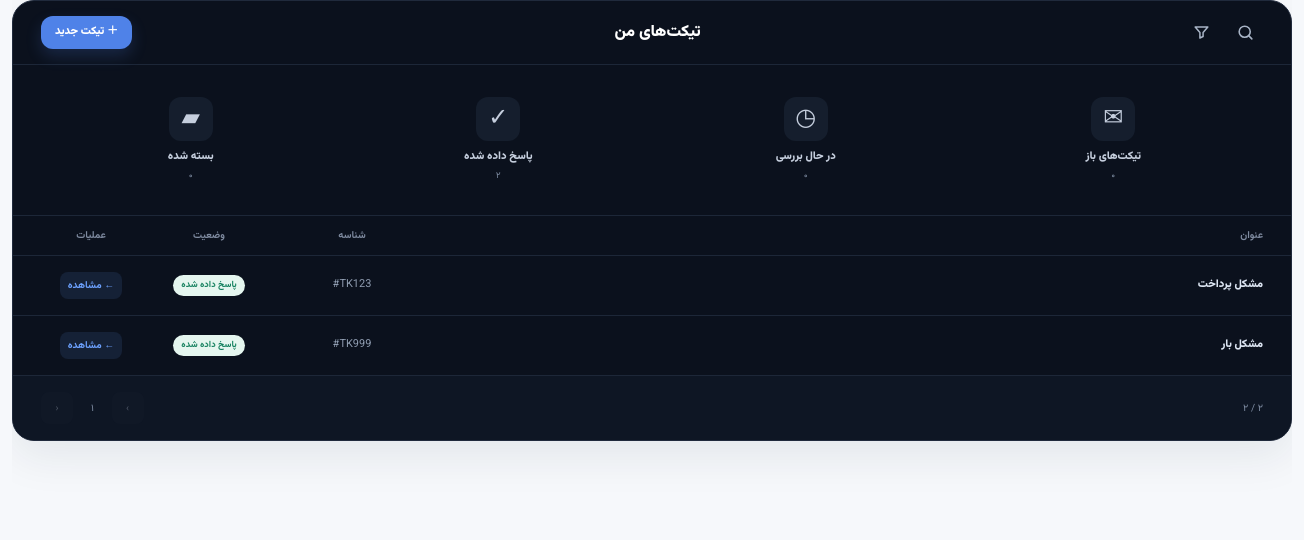
Test: SupportConversationCenter › searches owned tickets by tracking code and subject
Click the button named "جستجو با شماره تیکت یا موضوع…" at (1245, 32), box [1227,14,1263,50]
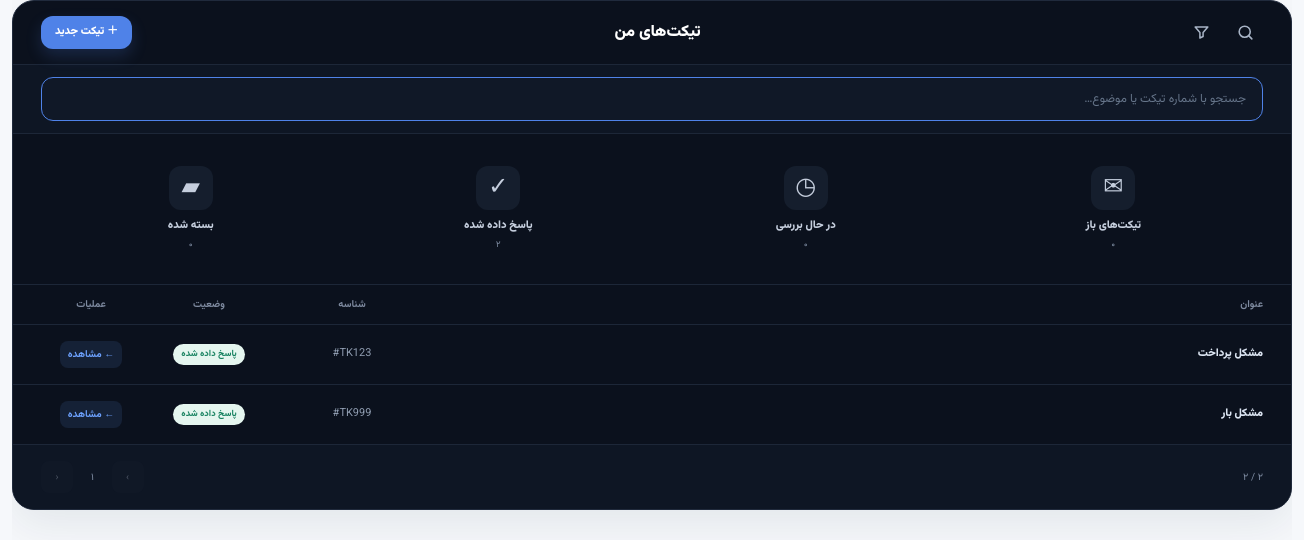
Type "TK999" into the search field with placeholder "جستجو با شماره تیکت یا موضوع…" at (652, 99), box [41,77,1263,121]
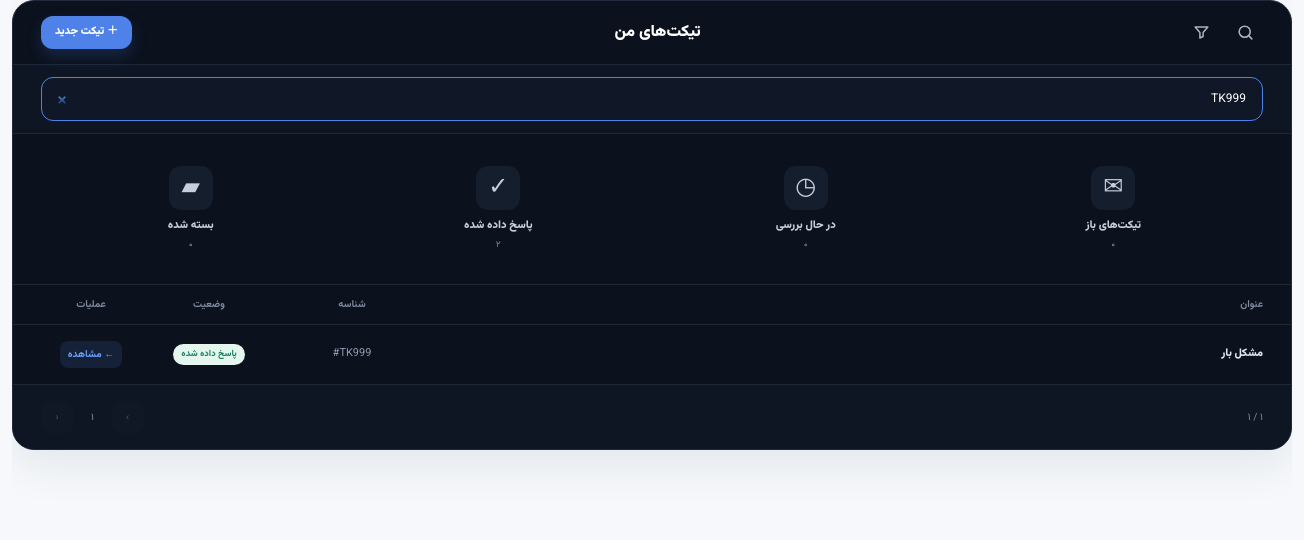
Expected: the text "مشکل بار" is shown, [1221,345,1263,362]
Result: the button "مشکل پرداخت" is gone
